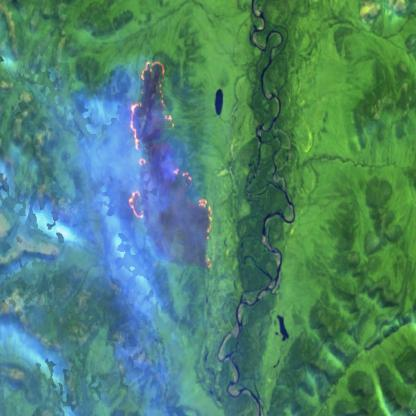fire: (115, 57, 216, 277)
